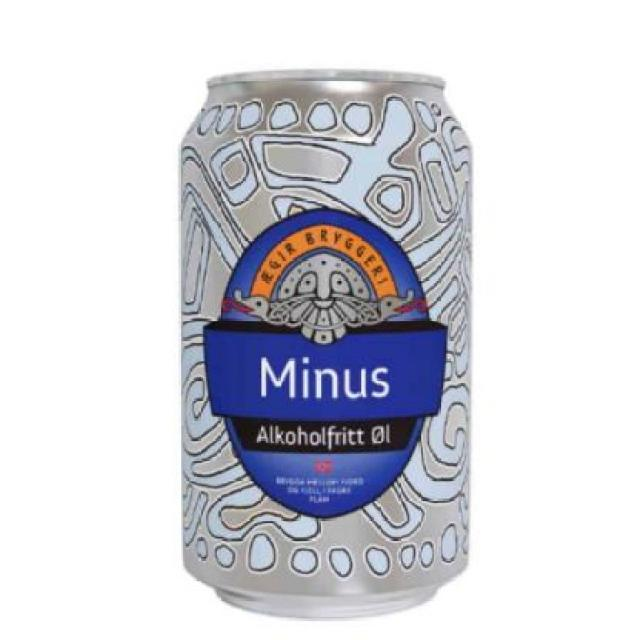can: (166, 66, 509, 626)
